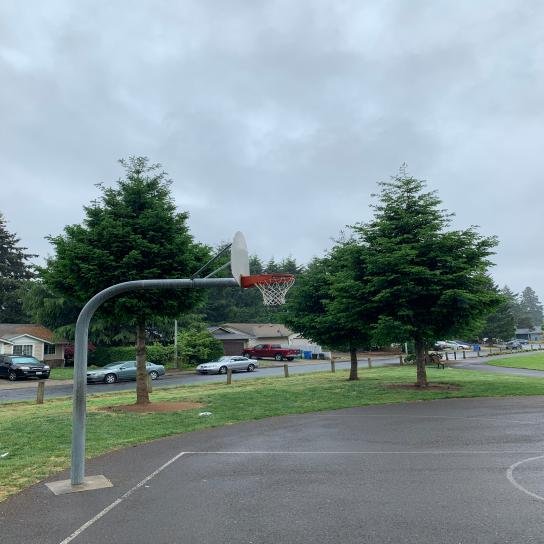basketball-hoop: (254, 273, 296, 306)
